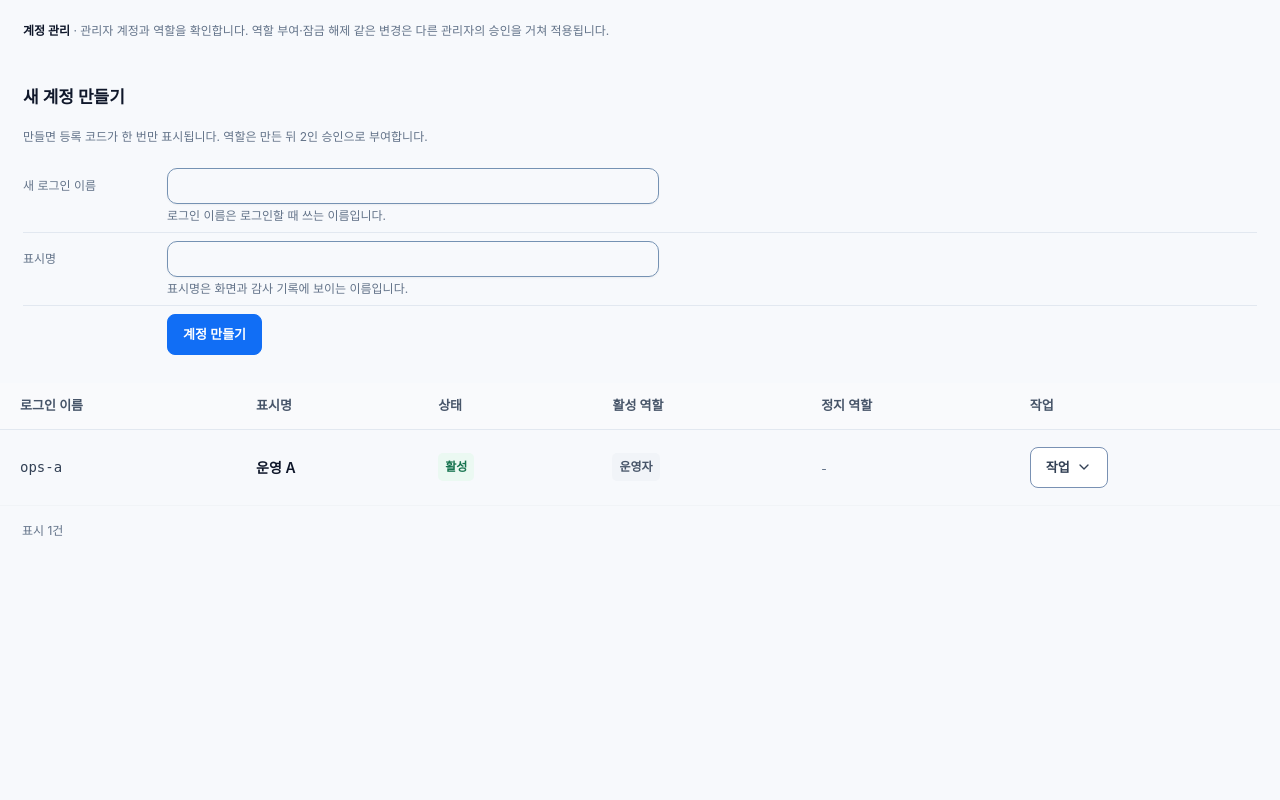
Scenario: AccountsScreen (SECURITY_ADMIN — list, create, 1-person commands, approval requests) › creates an account and shows its ENROLL code once
The image size is (1280, 800).
Check: the row "ops-a 운영 A 활성 운영자 - 작업" is shown, box [0, 429, 1279, 506]
Type "new-one" into the field labelled "새 로그인 이름" at {"x": 413, "y": 186}, box [167, 168, 659, 204]
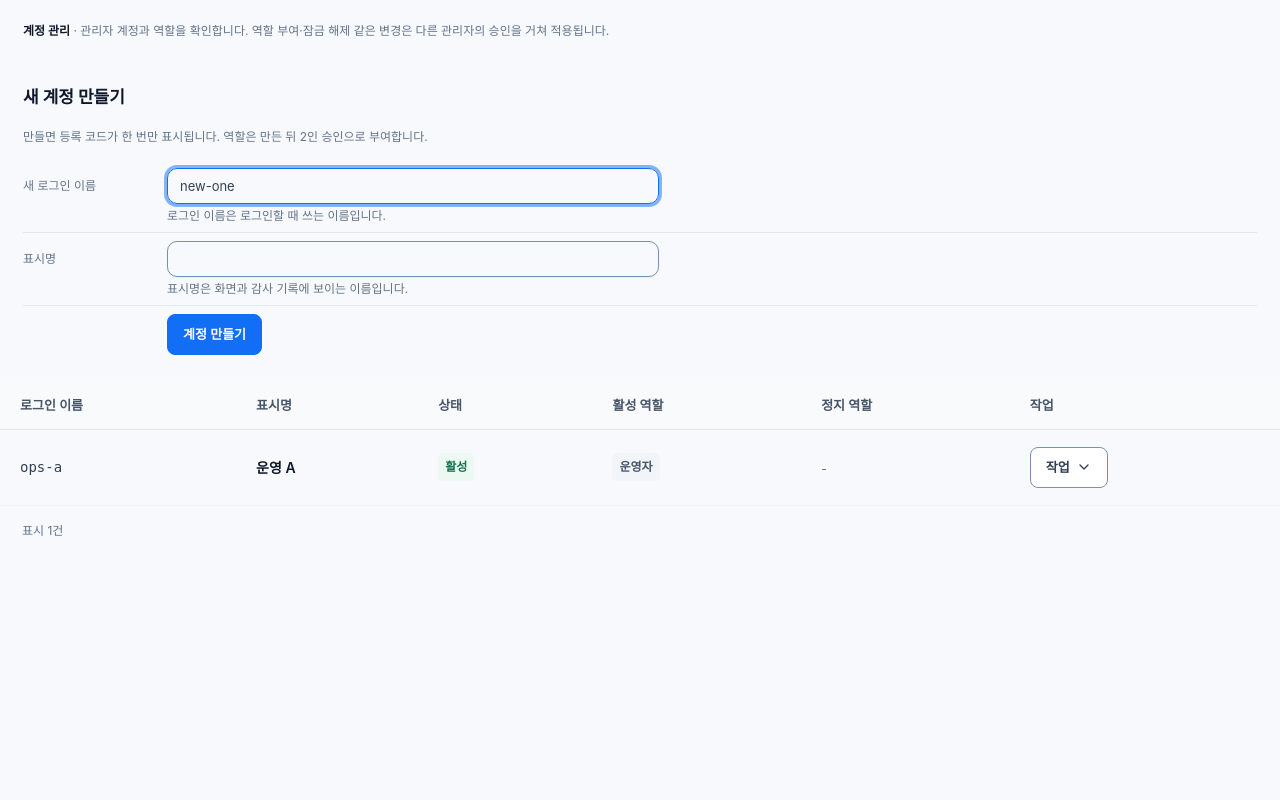
Type "신규" into the field labelled "표시명" at {"x": 413, "y": 259}, box [167, 241, 659, 277]
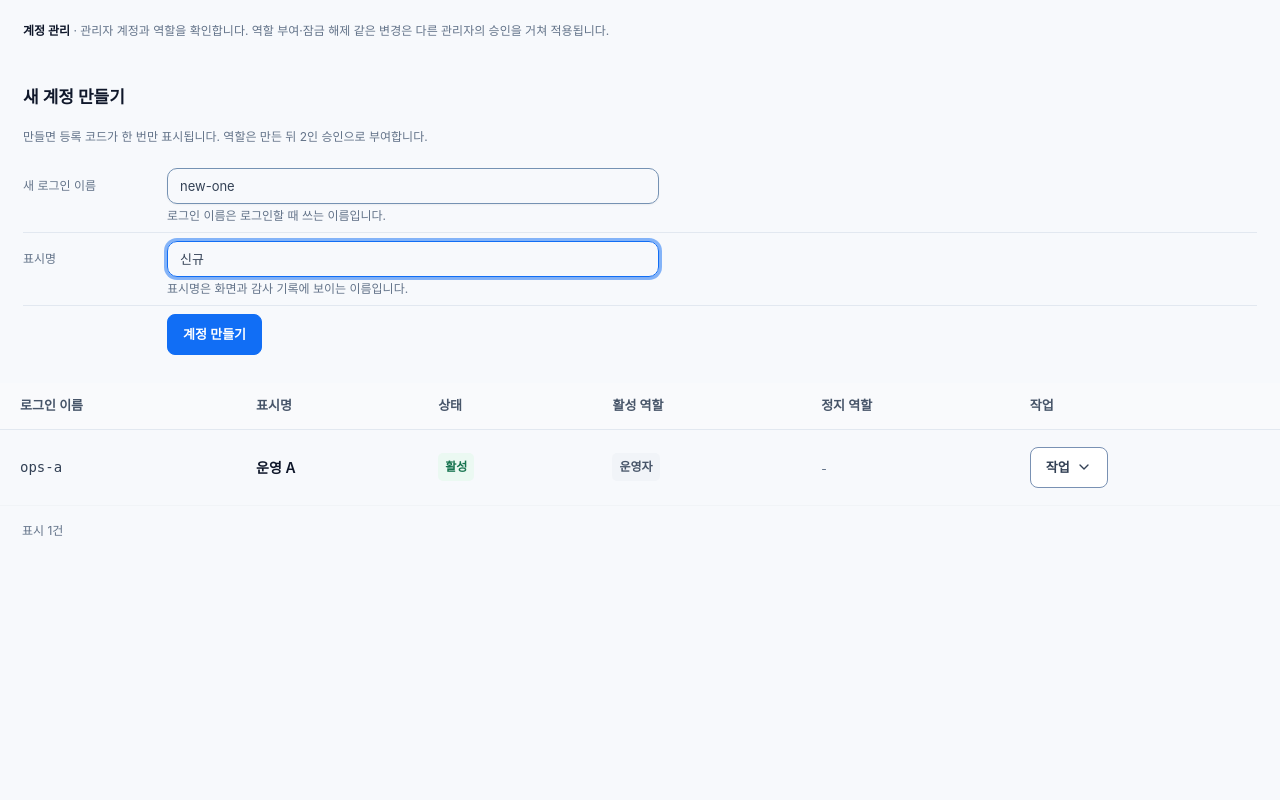
Click the button "계정 만들기" at {"x": 215, "y": 334}, box [167, 314, 262, 355]
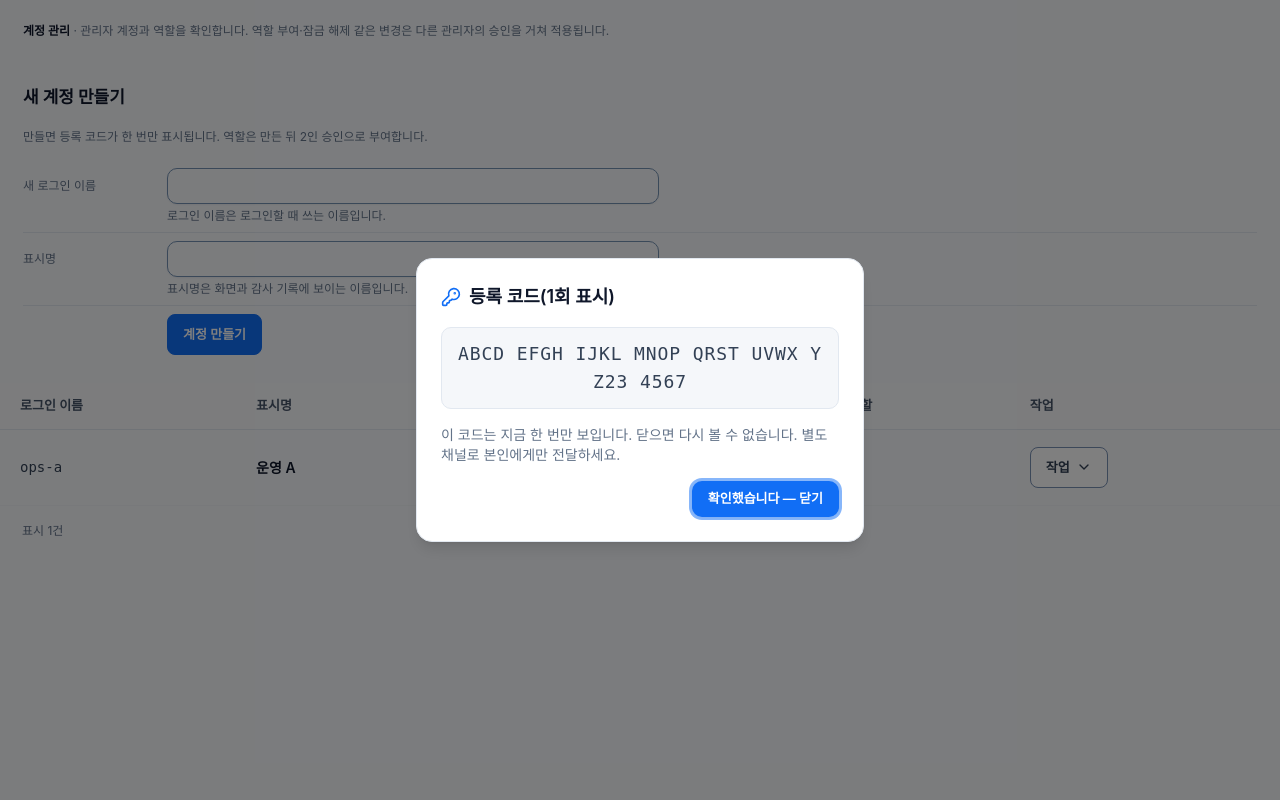
Check: the dialog shows "ABCD EFGH", box [458, 343, 822, 392]
Click the button "확인했습니다 — 닫기" at {"x": 765, "y": 499}, box [692, 481, 839, 517]
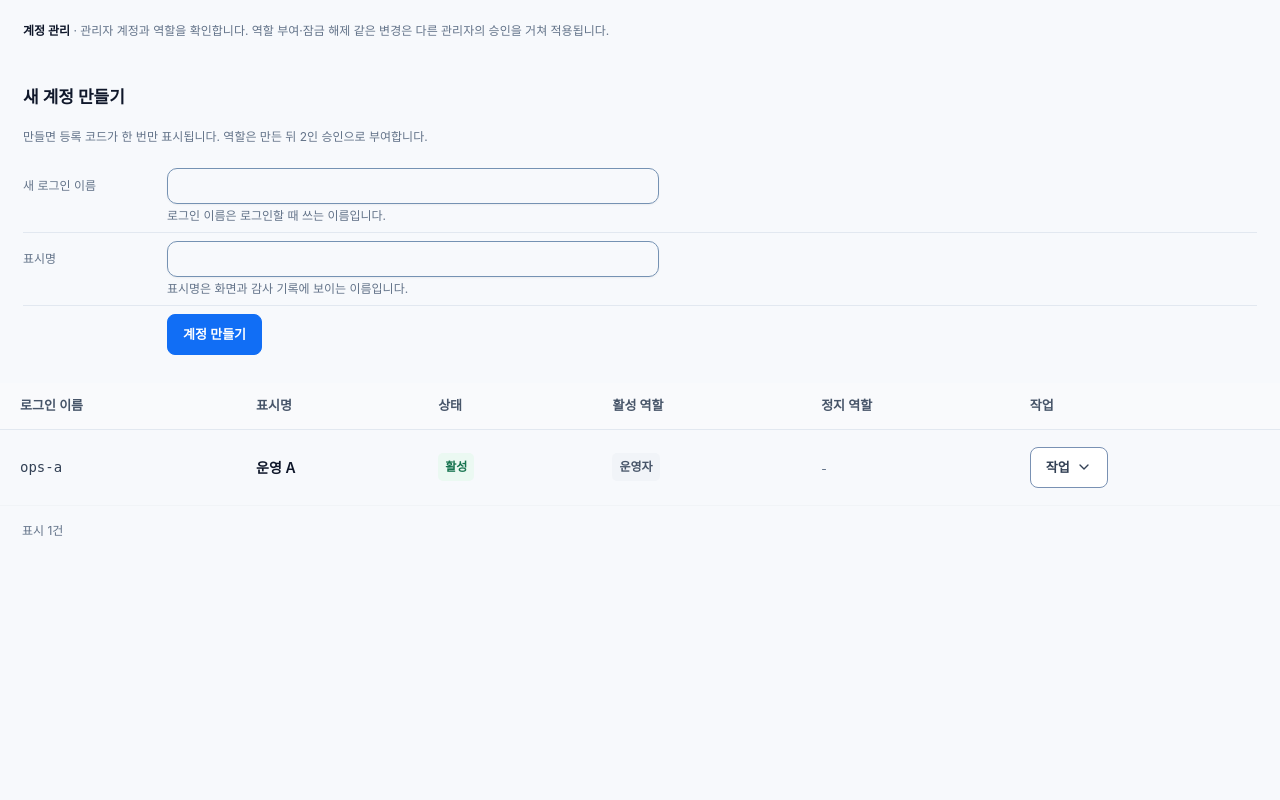
Check: the dialog is gone
